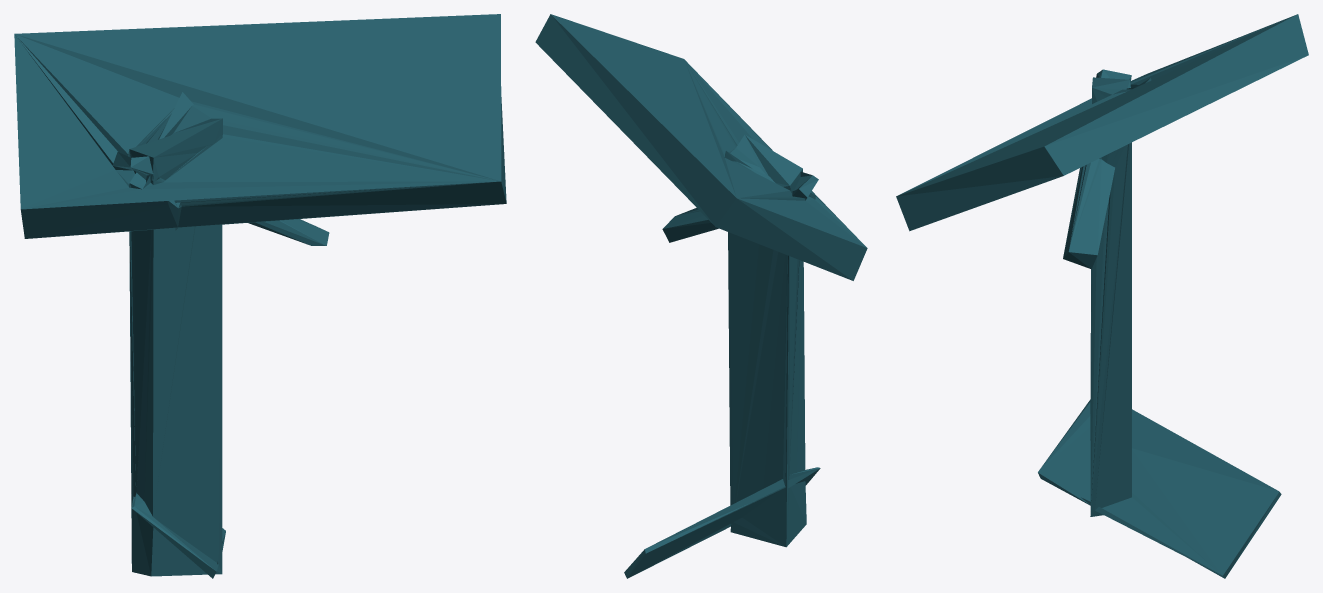
3 renders of one model, left to right at view 1: azimuth 30°, elevation 25°; view 2: azimuth 150°, elevation 25°; view 3: azimuth 270°, elevation 25°, orthographic. The views are drawn at different scales.
Visible parts, largest first — view 1: 343_Cube.1399; view 2: 343_Cube.1399; view 3: 343_Cube.1399.
Boxes of the visible parts, left/top/right/bottom form: 343_Cube.1399: left=14, top=14, right=506, bottom=578; 343_Cube.1399: left=535, top=14, right=867, bottom=578; 343_Cube.1399: left=896, top=14, right=1308, bottom=578.
Bounding box in the file's own units: 12.49 × 15.07 × 10.89.
